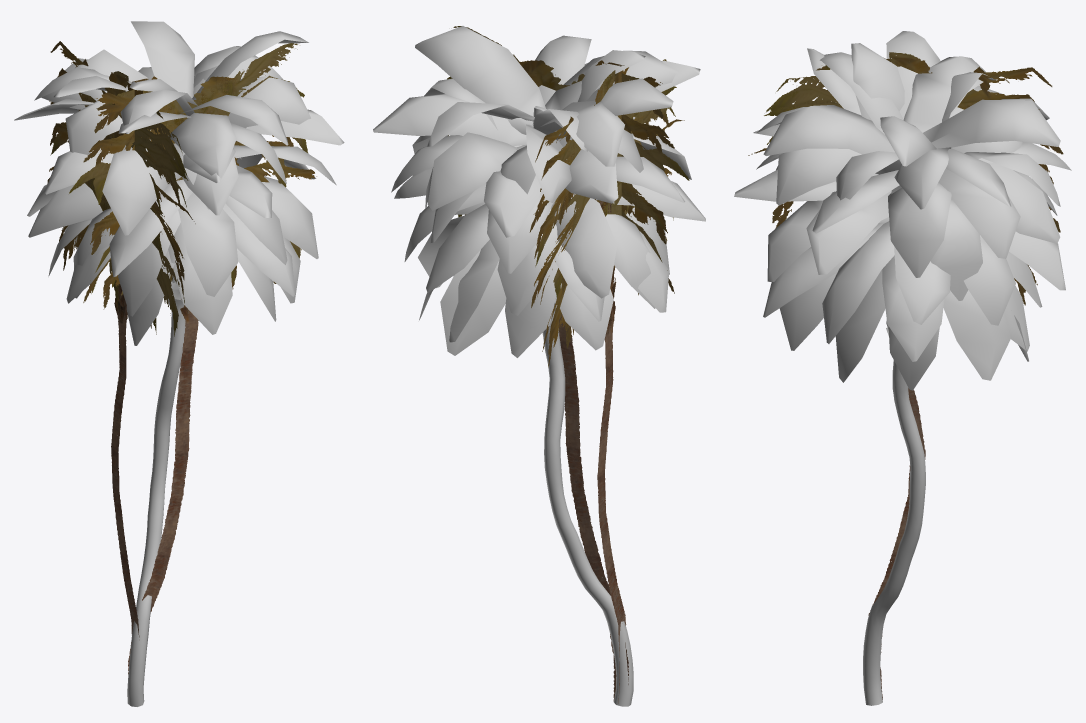
The model's file is Palm1.fbx.
3 renders of one model, left to right at view 1: azimuth 30°, elevation 25°; view 2: azimuth 150°, elevation 25°; view 3: azimuth 270°, elevation 25°, orthographic. The views are drawn at different scales.
Visible parts, largest first — view 1: LOD0, Billboard; view 2: LOD0, Billboard; view 3: LOD0, Billboard.
Boxes of the visible parts, left/top/right/bottom form: LOD0: left=14, top=21, right=344, bottom=706; Billboard: left=47, top=41, right=316, bottom=673; LOD0: left=373, top=26, right=705, bottom=706; Billboard: left=447, top=26, right=689, bottom=703; LOD0: left=734, top=31, right=1071, bottom=705; Billboard: left=748, top=52, right=1063, bottom=699.
Size of what is drawn, in the model's own units: 621 by 1356 by 631.
